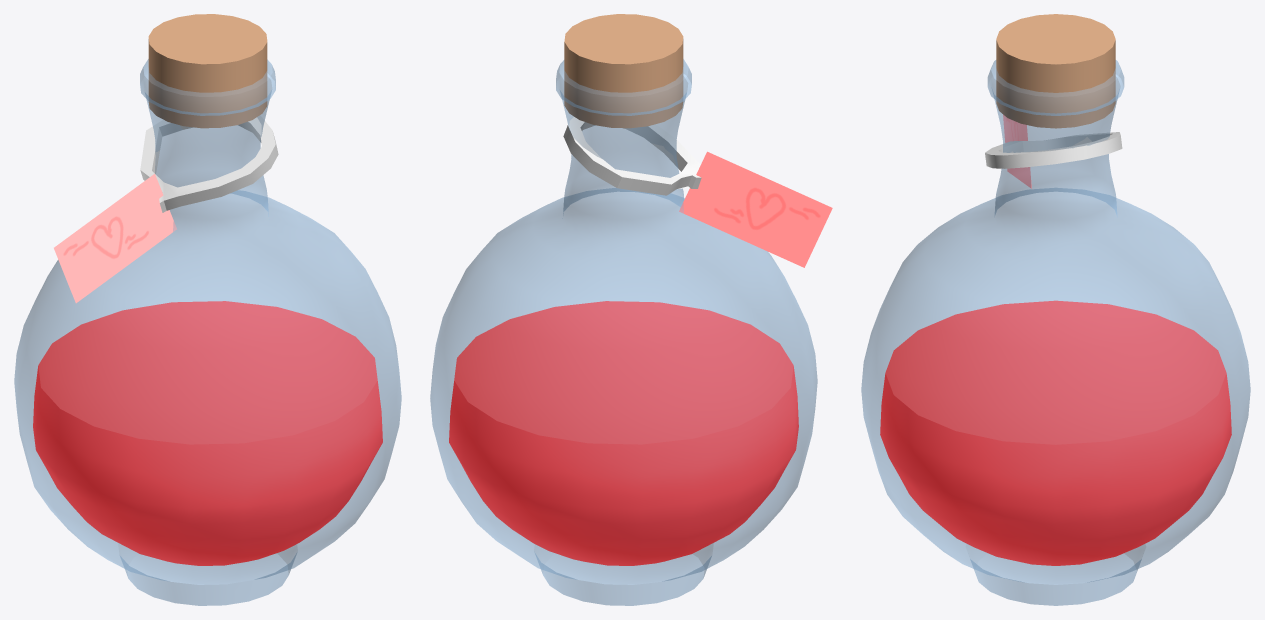
The model's file is red_potion.glb.
The picture shows the model from 3 angles, left to right: view 1: azimuth 30°, elevation 25°; view 2: azimuth 150°, elevation 25°; view 3: azimuth 270°, elevation 25°; orthographic projection.
Parts seen in each view (by area): view 1: pSphere1, pSphere2, pCylinder1, pPlane1, pCube1; view 2: pSphere1, pSphere2, pCylinder1, pPlane1, pCube1; view 3: pSphere1, pSphere2, pCylinder1, pCube1, pPlane1.
Boxes of the visible parts, box(x1,y1,x2,y2) form: pSphere1: box(14, 59, 401, 605); pSphere2: box(33, 301, 382, 565); pCylinder1: box(148, 14, 267, 128); pPlane1: box(54, 174, 176, 303); pCube1: box(140, 115, 278, 212); pSphere1: box(430, 59, 817, 605); pSphere2: box(449, 301, 798, 565); pCylinder1: box(564, 14, 683, 128); pPlane1: box(679, 151, 832, 267); pCube1: box(563, 116, 701, 195); pSphere1: box(861, 60, 1250, 605); pSphere2: box(880, 300, 1231, 565); pCylinder1: box(996, 14, 1115, 128); pCube1: box(985, 132, 1122, 168); pPlane1: box(1003, 114, 1031, 188).
Size of the model in its own units: 1.74 by 2.52 by 1.67.
Materials: 3 (3 with a texture image).
